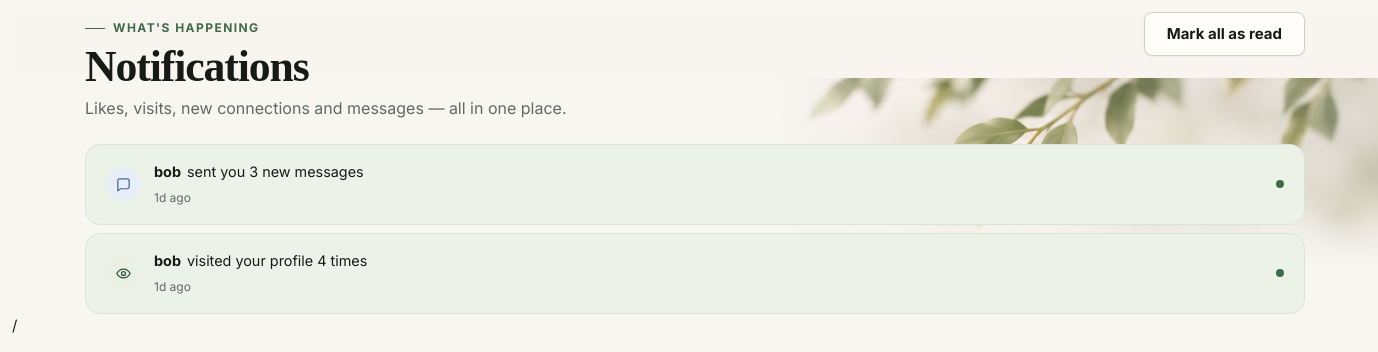
page acknowledges a visit group when it is selected
This screenshot has width=1378, height=352.
Click the button "bob visited your profile 4 times 1d ago".
click(123, 273)  # box [85, 233, 1305, 314]
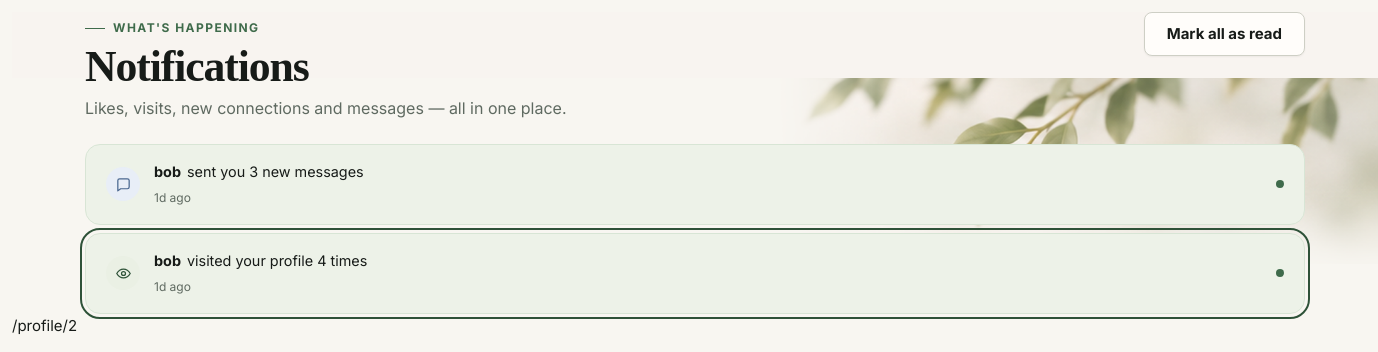
Expected: the text "/profile/2" is shown, [12, 316, 77, 335]
